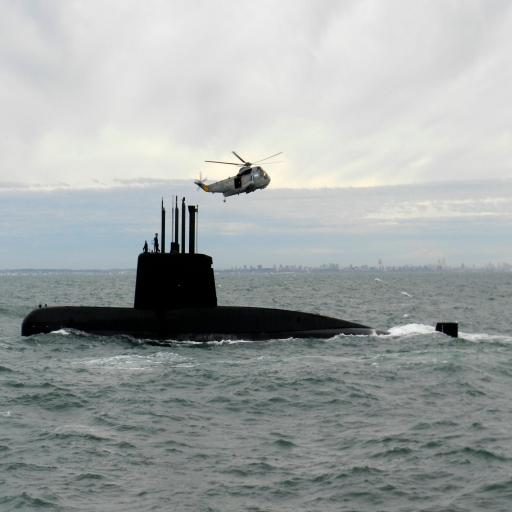helicopter: (196, 130, 294, 211)
submarine: (12, 185, 461, 365)
